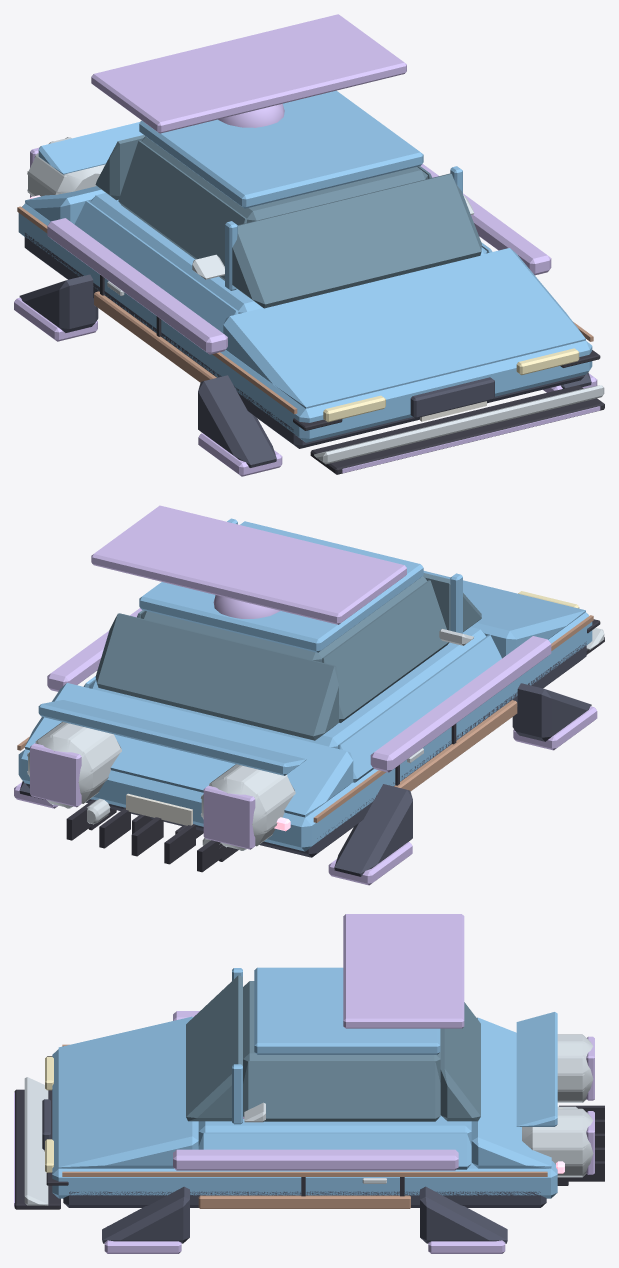
The model's file is orbit_owl.fbx.
The picture shows the model from 3 angles, top to bottom: view 1: azimuth 30°, elevation 25°; view 2: azimuth 150°, elevation 25°; view 3: azimuth 270°, elevation 25°; orthographic projection. The views are drawn at different scales.
Visible parts, largest first — view 1: Body, Glass, Light, Trim2, Accent, Trim, Accent2, Light2; view 2: Body, Light, Glass, Trim2, Accent, Trim, Accent2, Accent3, Metal; view 3: Body, Glass, Light, Trim2, Accent, Accent2, Trim, Light2.
Boxes of the visible parts, x1,y1,x2,y2 form: Body: (18,90,592,442); Glass: (95,135,481,308); Light: (14,14,600,476); Trim2: (19,233,591,467); Accent: (27,137,604,464); Trim: (100,275,604,474); Accent2: (17,206,593,414); Light2: (323,348,579,422); Body: (18,518,592,851); Light: (14,505,597,885); Glass: (95,573,481,740); Trim2: (19,641,591,876); Accent: (27,628,604,850); Trim: (66,619,604,872); Accent2: (17,615,593,822); Accent3: (126,793,192,825); Metal: (87,748,423,847); Body: (52,967,557,1198); Glass: (186,975,480,1121); Light: (14,914,594,1253); Trim2: (42,1099,546,1243); Accent: (24,1034,593,1205); Accent2: (62,1044,547,1208); Trim: (14,1056,604,1209); Light2: (45,1056,53,1172).
Bounding box in the file's own units: 3.3 × 2.13 × 5.38.
